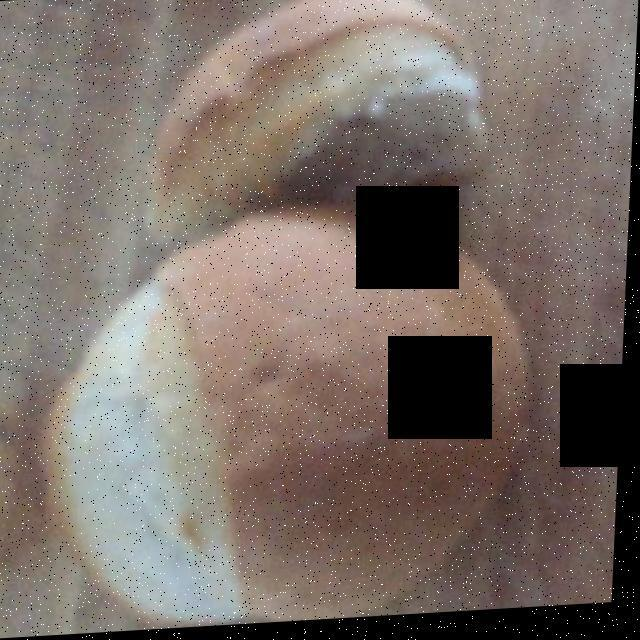bread: (27, 20, 562, 632), (24, 0, 523, 619), (39, 24, 543, 620)
